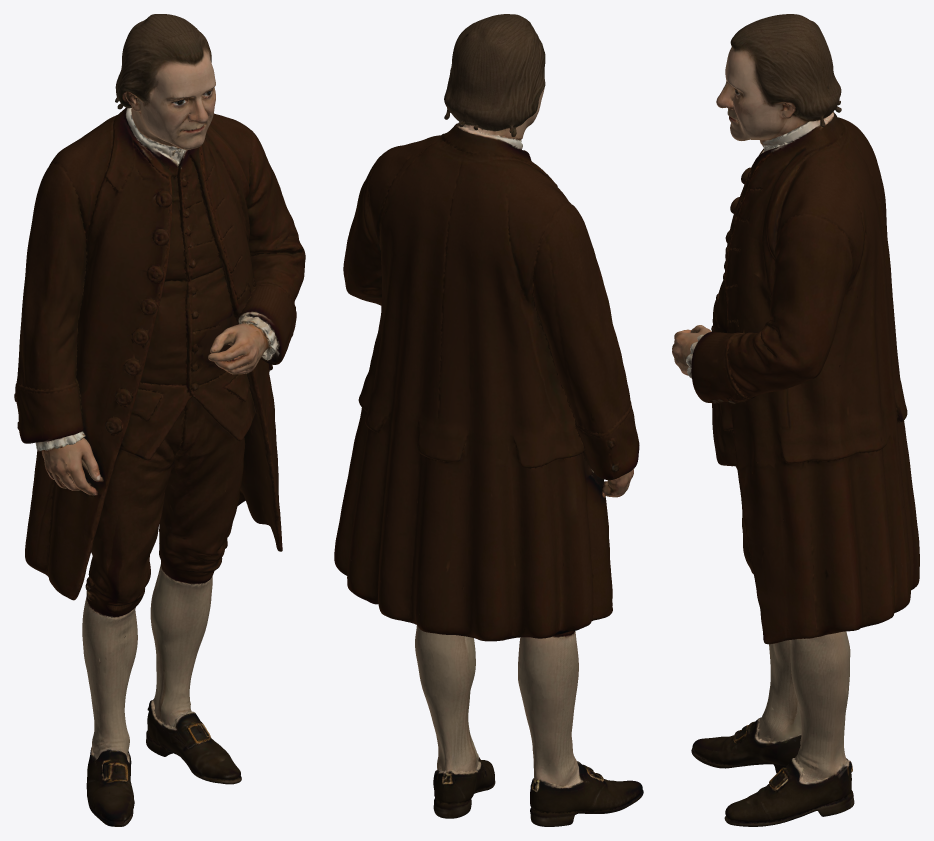
File: sherman-opt.fbx
3 views of the same model, side by side, from view 1: azimuth 30°, elevation 25°; view 2: azimuth 150°, elevation 25°; view 3: azimuth 270°, elevation 25° (orthographic). The views are drawn at different scales.
Visible parts, largest first — view 1: tripo_node_c50a35ae; view 2: tripo_node_c50a35ae; view 3: tripo_node_c50a35ae.
Part boxes in pixels (x1,y1,x2,y2): tripo_node_c50a35ae: (14, 14, 305, 826); tripo_node_c50a35ae: (334, 14, 643, 826); tripo_node_c50a35ae: (672, 14, 919, 826).
Bounding box in the file's own units: 37.31 × 97.96 × 28.02.
1 material, 1 textured.
